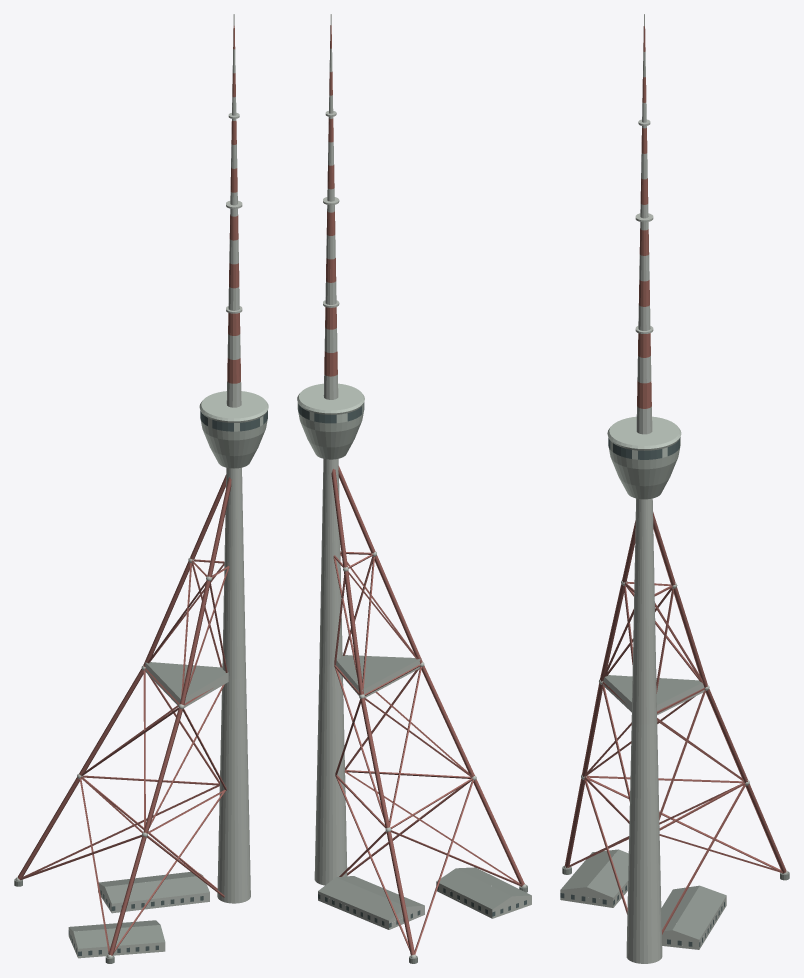
The model's file is tbilisi-tv-tower-near.glb.
The picture shows the model from 3 angles, left to right: view 1: azimuth 30°, elevation 25°; view 2: azimuth 150°, elevation 25°; view 3: azimuth 270°, elevation 25°; orthographic projection. The views are drawn at different scales.
Parts seen in each view (by area): view 1: tbilisi-tv-tower-0-white, tbilisi-tv-tower-0-brace, tbilisi-tv-tower-0-roof, tbilisi-tv-tower-0-leg, tbilisi-tv-tower-0-lamp, tbilisi-tv-tower-0-red, tbilisi-tv-tower-0-glass; view 2: tbilisi-tv-tower-0-white, tbilisi-tv-tower-0-brace, tbilisi-tv-tower-0-roof, tbilisi-tv-tower-0-leg, tbilisi-tv-tower-0-lamp, tbilisi-tv-tower-0-red, tbilisi-tv-tower-0-glass; view 3: tbilisi-tv-tower-0-white, tbilisi-tv-tower-0-brace, tbilisi-tv-tower-0-roof, tbilisi-tv-tower-0-lamp, tbilisi-tv-tower-0-leg, tbilisi-tv-tower-0-red, tbilisi-tv-tower-0-glass.
Boxes of the visible parts, <box> form: tbilisi-tv-tower-0-white: <box>15,14,250,958</box>; tbilisi-tv-tower-0-brace: <box>19,559,229,952</box>; tbilisi-tv-tower-0-roof: <box>14,662,228,963</box>; tbilisi-tv-tower-0-leg: <box>18,474,231,955</box>; tbilisi-tv-tower-0-lamp: <box>199,391,268,468</box>; tbilisi-tv-tower-0-red: <box>227,25,240,383</box>; tbilisi-tv-tower-0-glass: <box>68,411,267,955</box>; tbilisi-tv-tower-0-white: <box>314,14,531,958</box>; tbilisi-tv-tower-0-brace: <box>333,552,522,953</box>; tbilisi-tv-tower-0-roof: <box>318,655,530,963</box>; tbilisi-tv-tower-0-leg: <box>331,466,524,955</box>; tbilisi-tv-tower-0-lamp: <box>297,383,364,459</box>; tbilisi-tv-tower-0-red: <box>324,25,337,376</box>; tbilisi-tv-tower-0-glass: <box>298,403,526,927</box>; tbilisi-tv-tower-0-white: <box>560,14,787,963</box>; tbilisi-tv-tower-0-brace: <box>567,581,783,934</box>; tbilisi-tv-tower-0-roof: <box>560,675,789,939</box>; tbilisi-tv-tower-0-lamp: <box>607,416,681,499</box>; tbilisi-tv-tower-0-leg: <box>564,512,786,873</box>; tbilisi-tv-tower-0-red: <box>637,26,651,408</box>; tbilisi-tv-tower-0-glass: <box>560,438,724,946</box>.
Bounding box in the file's own units: 69.41 × 278 × 61.3.
